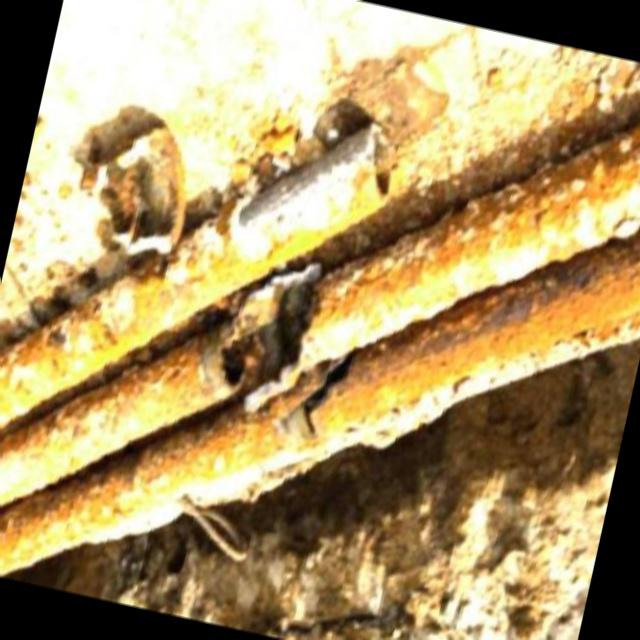Hole: (174, 264, 327, 404)
